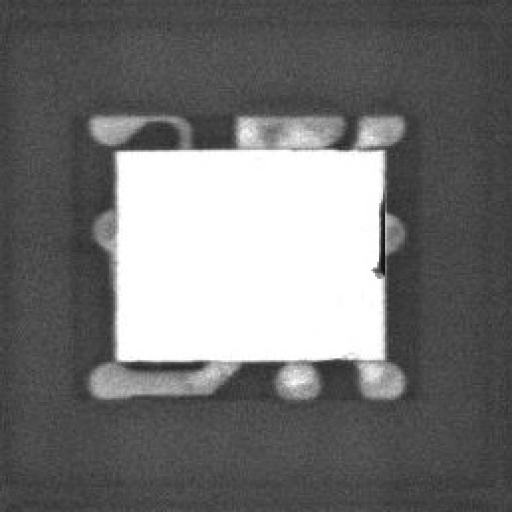DIE_BROKEN: (367, 197, 387, 281)
